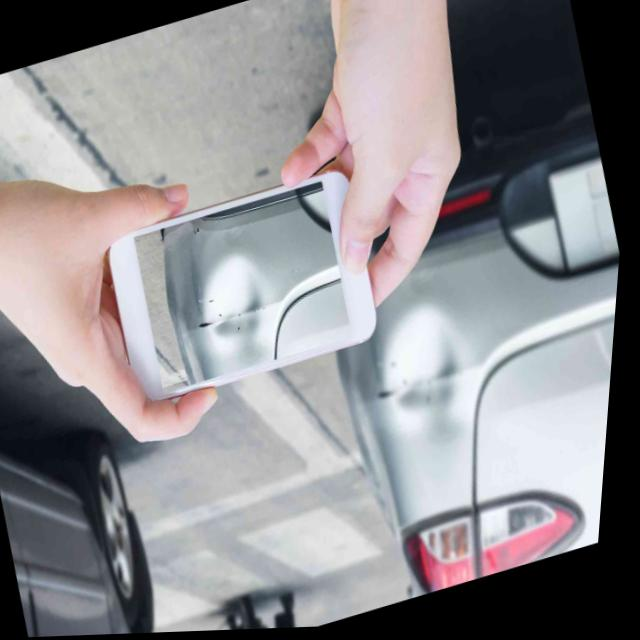Dent: (346, 296, 510, 470)
